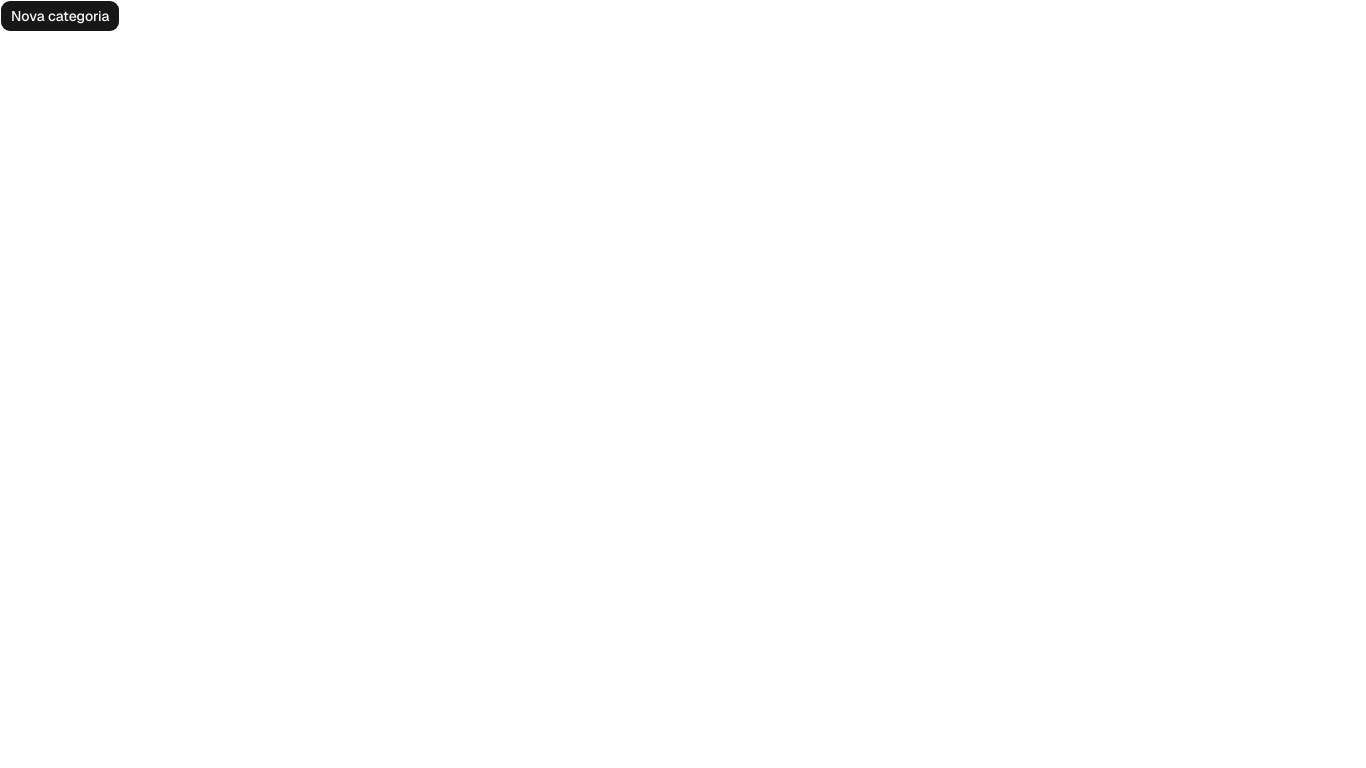
Scenario: CreateCategoryDialog › closes on success
This screenshot has width=1366, height=768.
Click the button "Nova categoria" at (60, 16), box top-left (0, 0), bottom-right (120, 32)
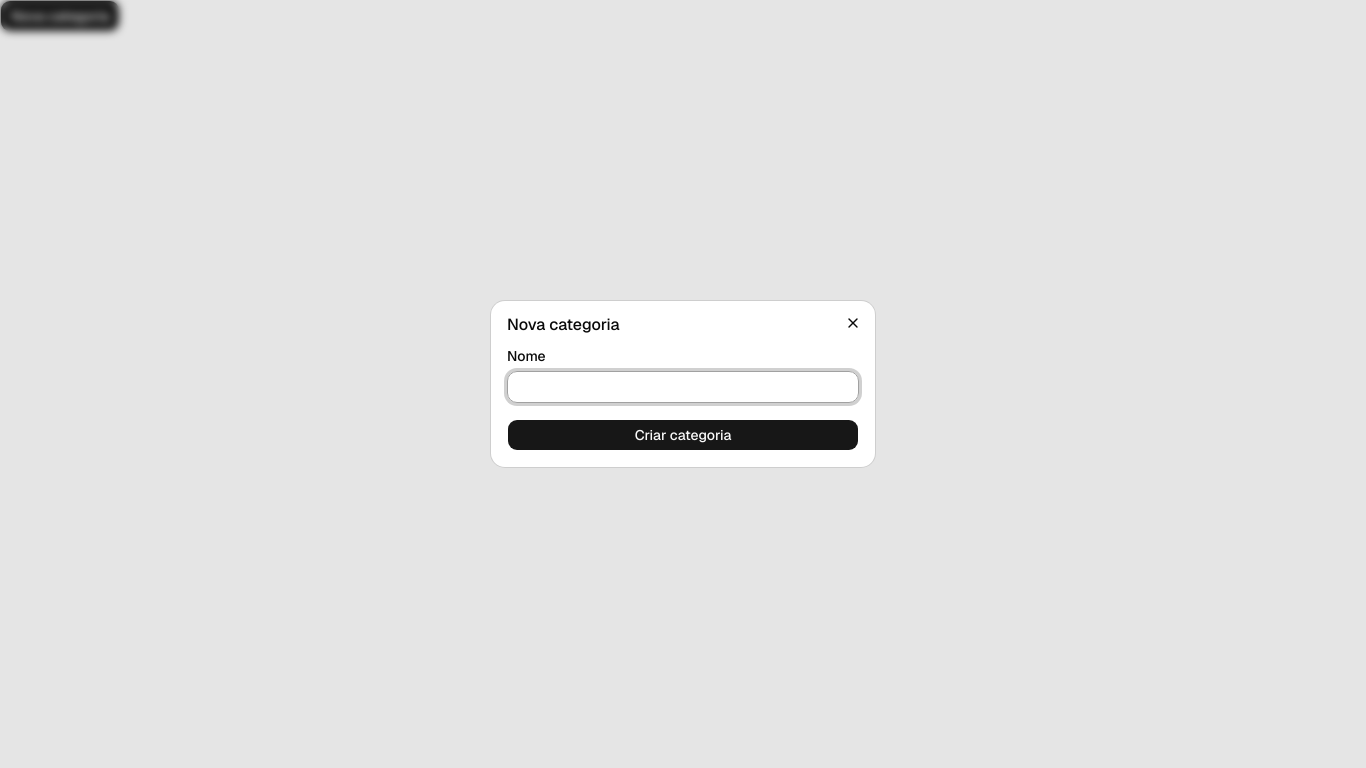
Type "Bebidas" into the field labelled "Nome" at (683, 387), box top-left (507, 371), bottom-right (859, 403)
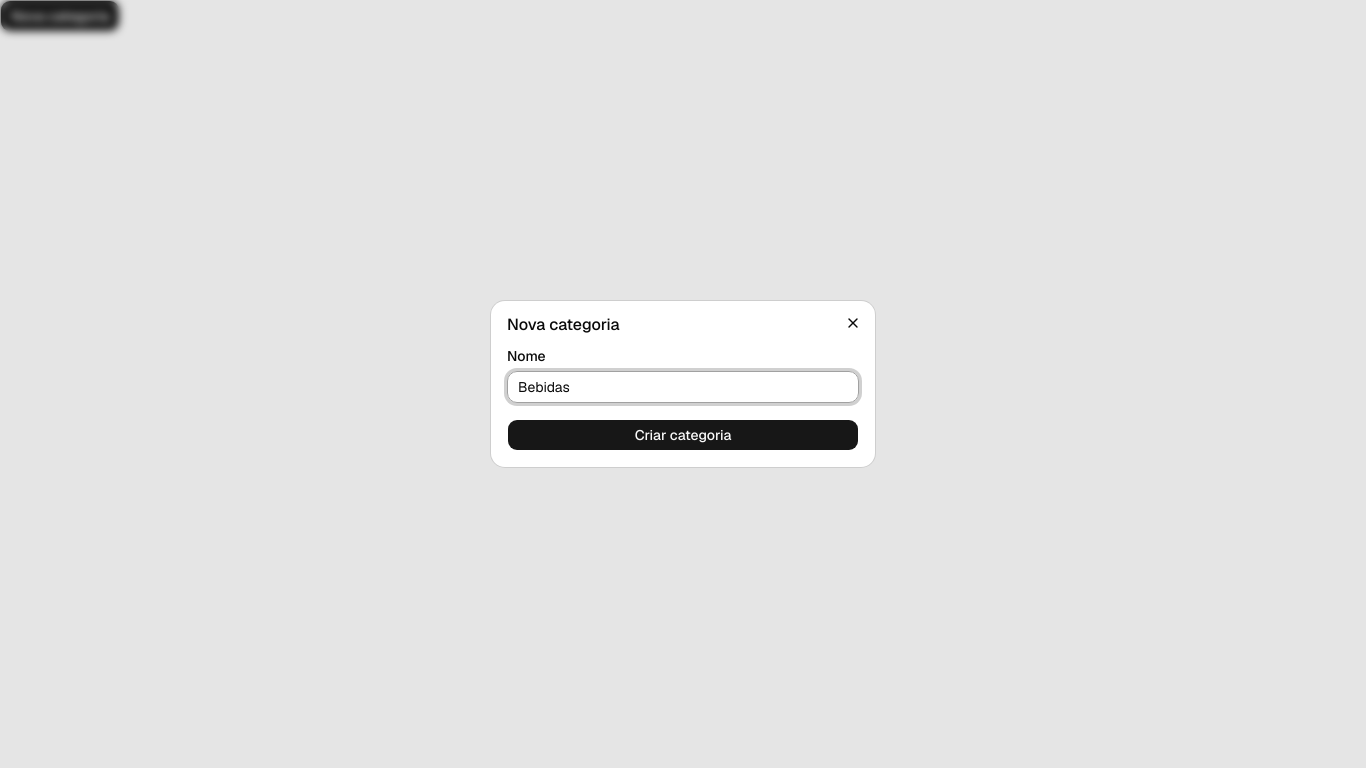
Click the button "Criar categoria" at (683, 435), box top-left (507, 419), bottom-right (859, 451)
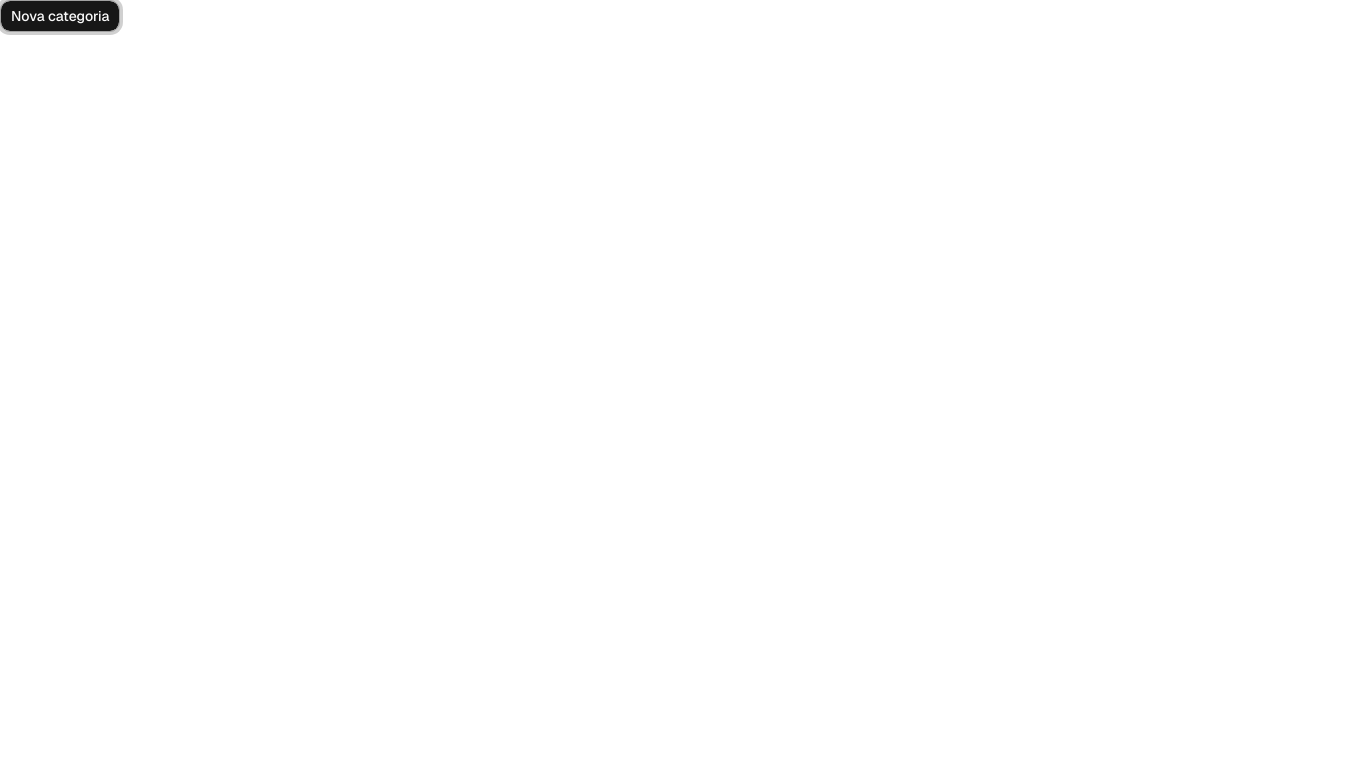
Result: the dialog is gone
